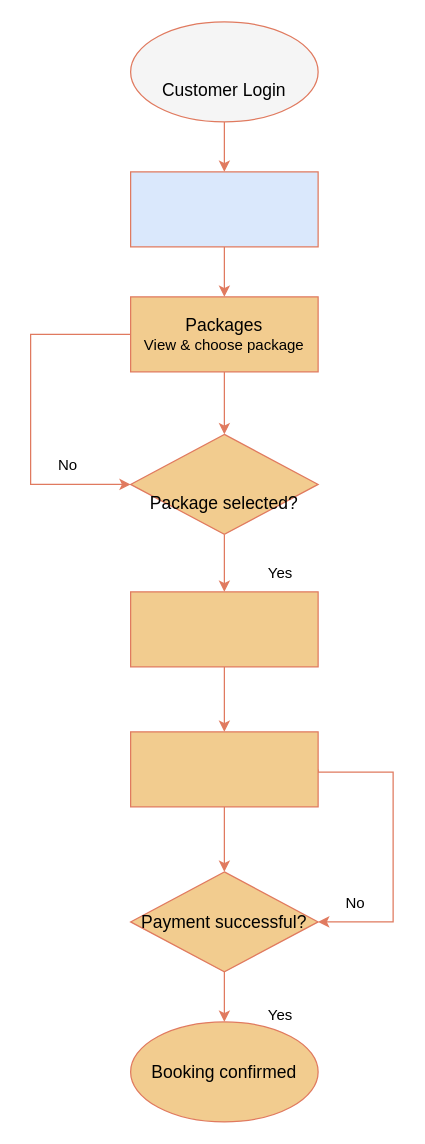
Some shapes in this 425 by 1144 pixel diagram are drawn without their labels. Here are the shapes that lost their labels. From the top down, the centre of each, then its label:
At (x=223, y=209): "Selection Browse destinations".
At (x=223, y=629): "Reserve Dates & guest details".
At (x=223, y=769): "Billing Payment & confirmation".
